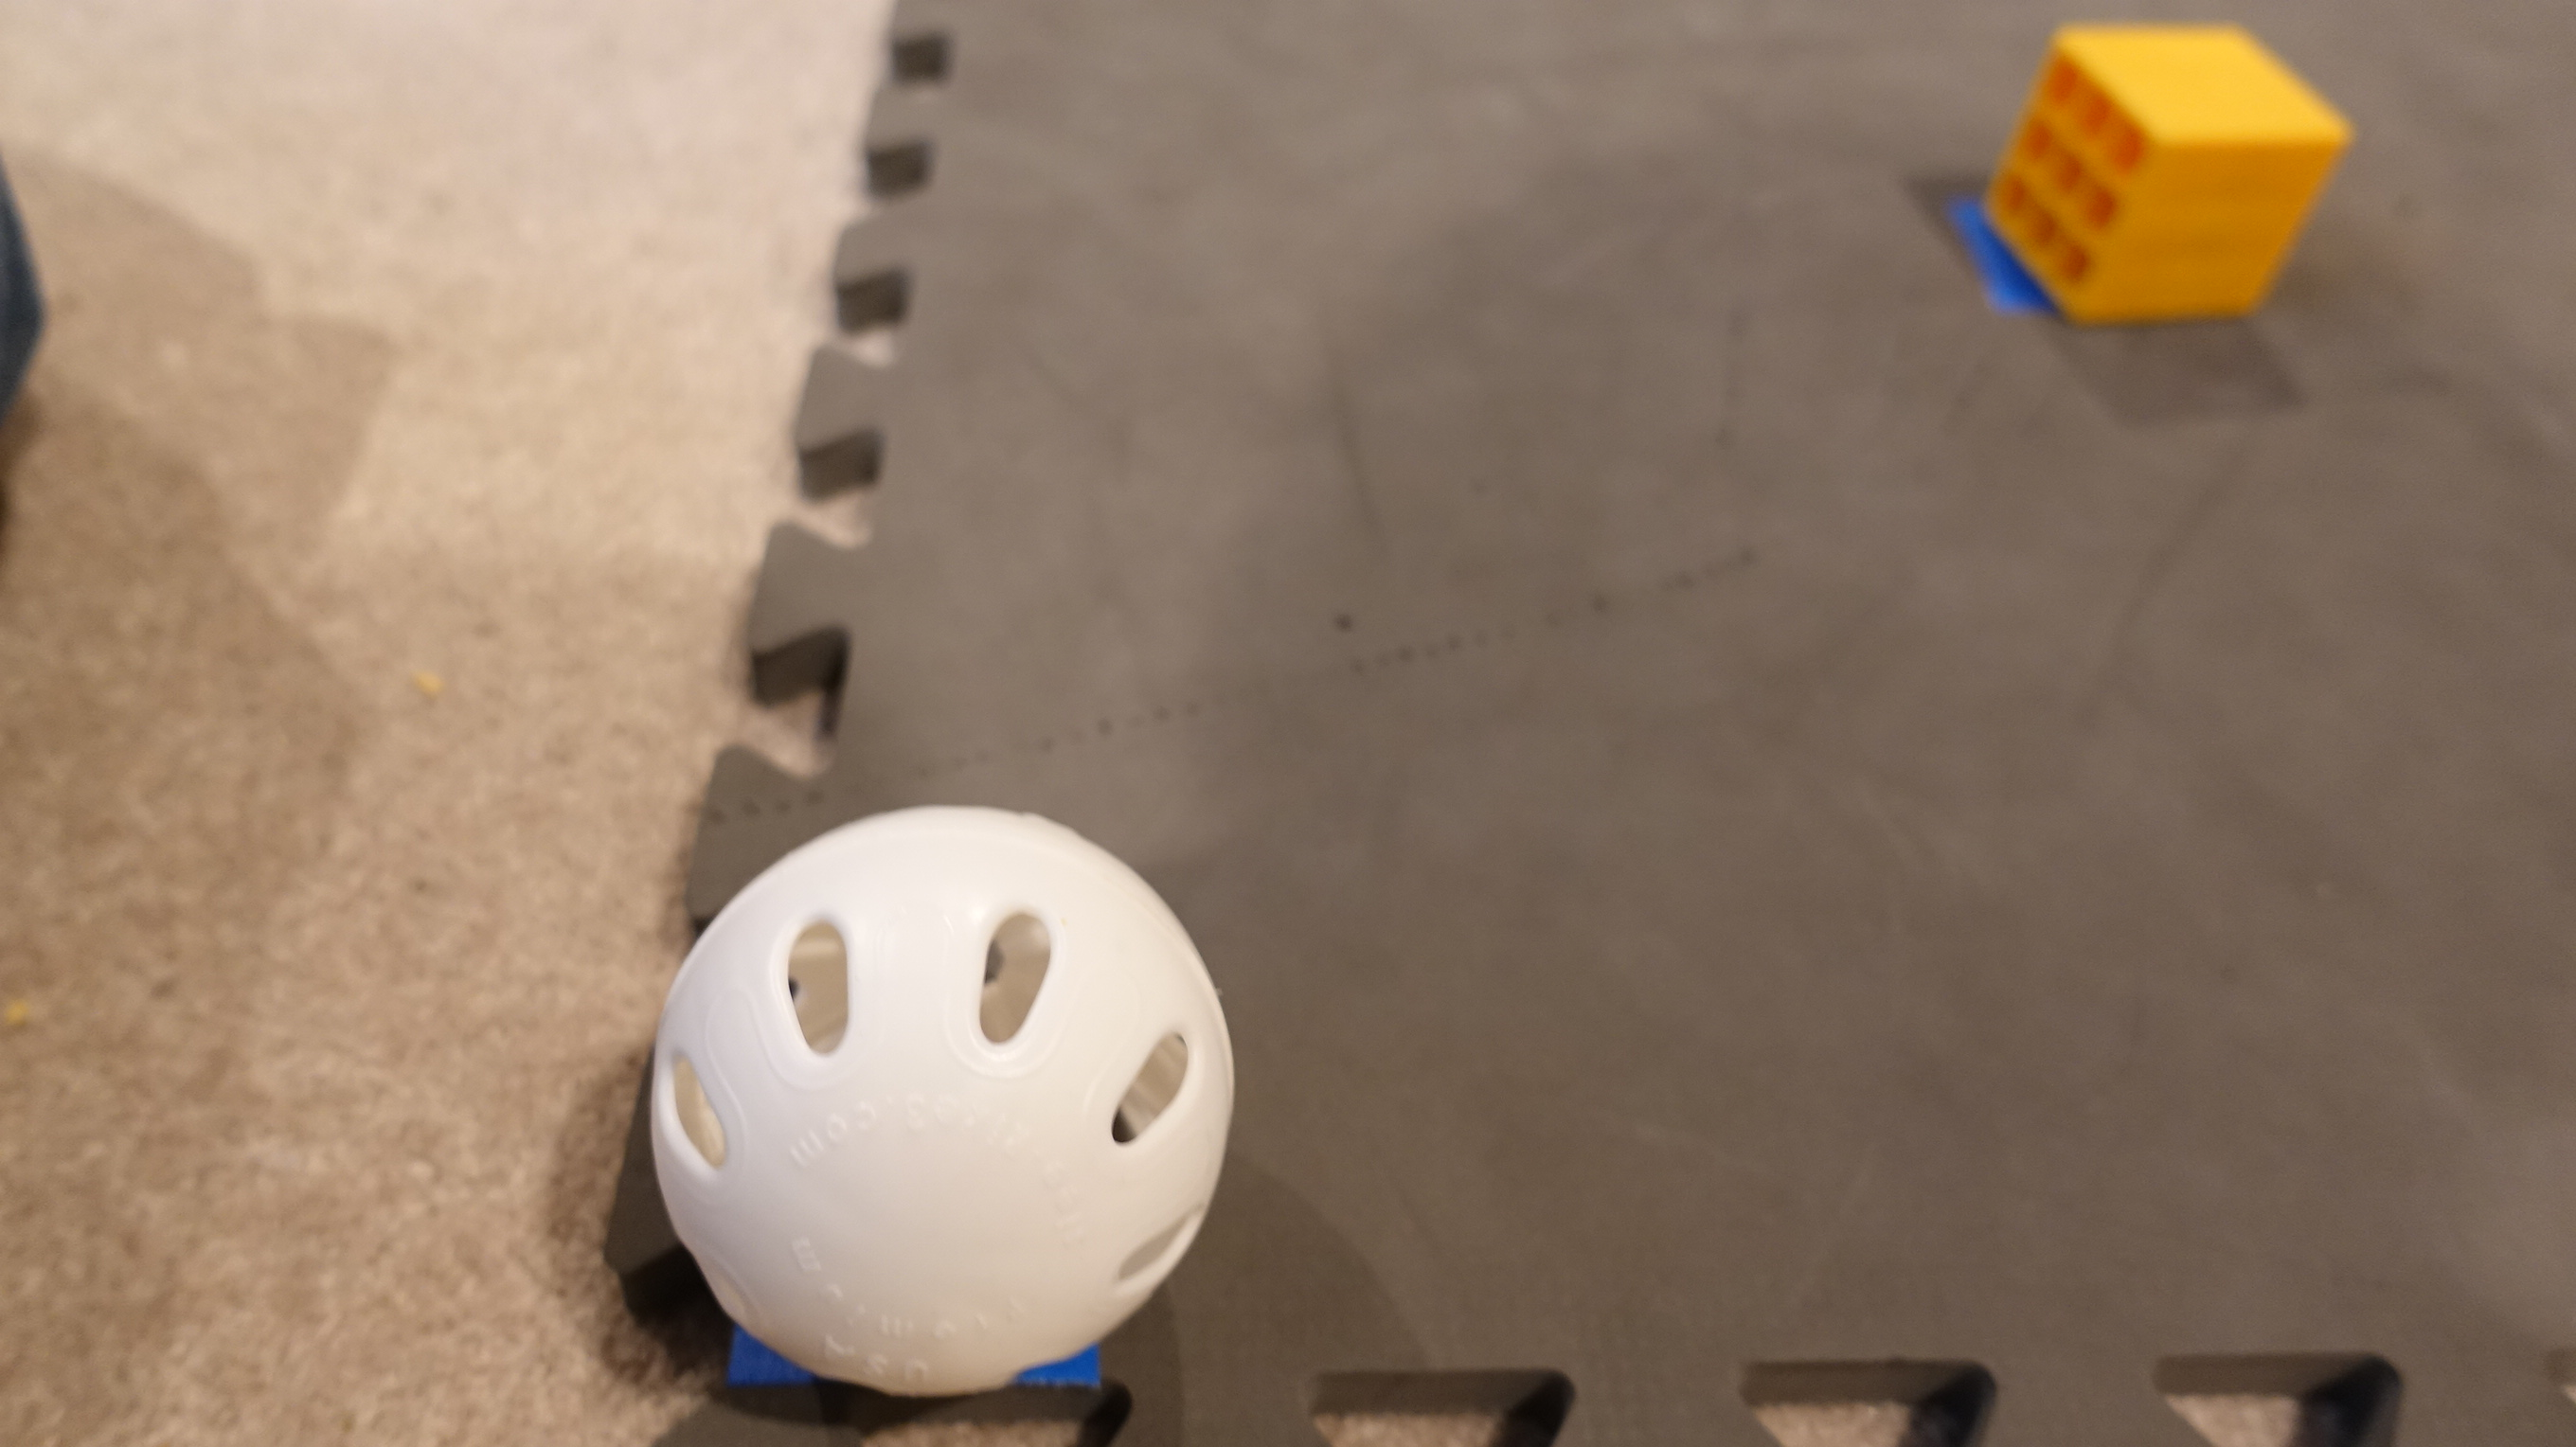gold: (1980, 7, 2348, 336)
silver: (640, 805, 1240, 1412)
